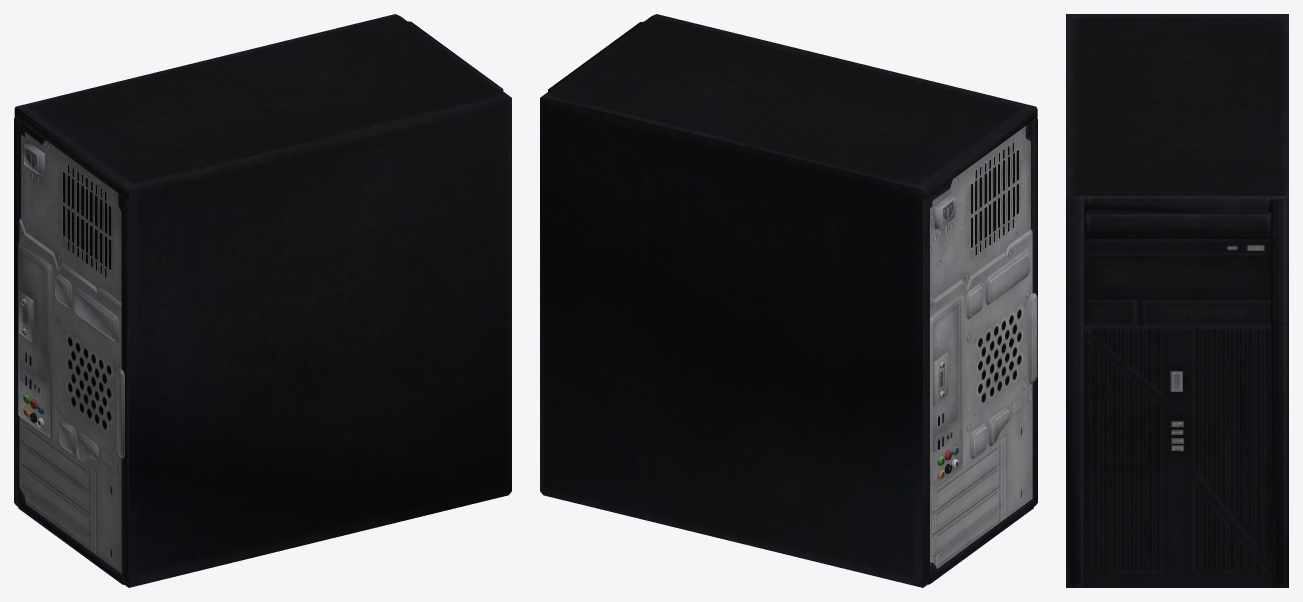
The model's file is computer_chassi.dae.
3 views of the same model, side by side, from view 1: azimuth 30°, elevation 25°; view 2: azimuth 150°, elevation 25°; view 3: azimuth 270°, elevation 25° (orthographic).
Visible parts, largest first — view 1: computer_chassi; view 2: computer_chassi; view 3: computer_chassi.
Part boxes in pixels (box(x1,y1,x2,y2)): computer_chassi: box(14, 14, 511, 587); computer_chassi: box(540, 14, 1037, 587); computer_chassi: box(1066, 14, 1288, 587).
Bounding box in the file's own units: 41.62 × 40.42 × 20.84.
